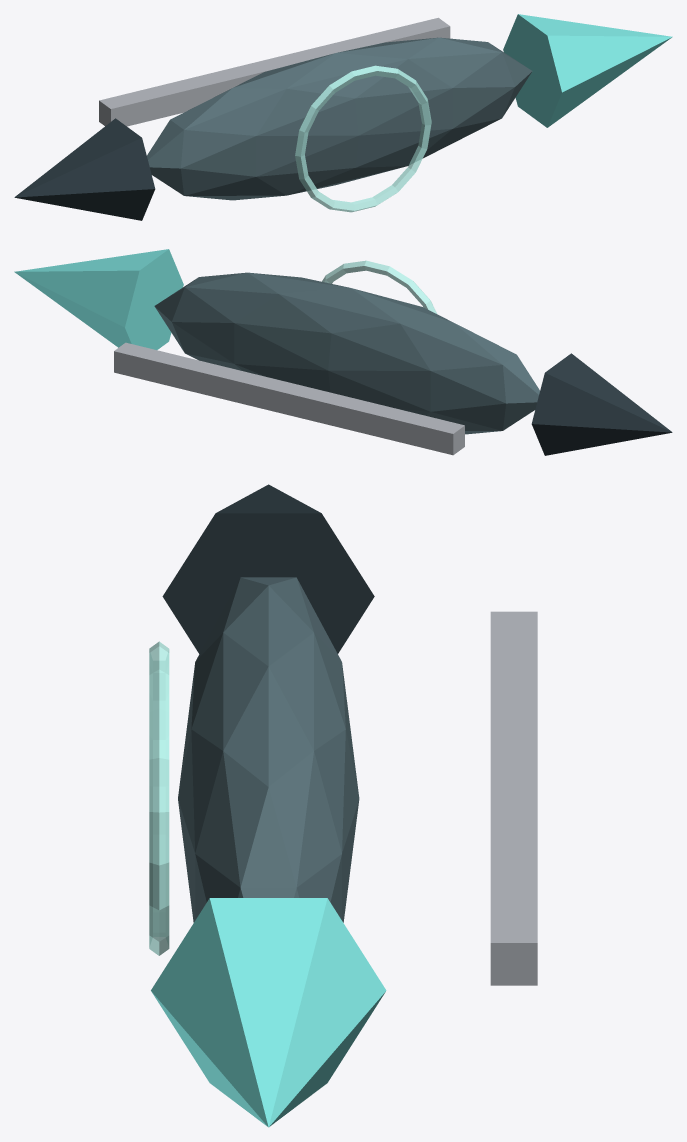
The model's file is 05_skyship_hull.glb.
3 renders of one model, top to bottom at view 1: azimuth 30°, elevation 25°; view 2: azimuth 150°, elevation 25°; view 3: azimuth 270°, elevation 25°, orthographic. The views are drawn at different scales.
Visible parts, largest first — view 1: hull_low_poly, bow_upgrade, stern_fin, keel_plate, size_class_ring; view 2: hull_low_poly, keel_plate, bow_upgrade, stern_fin, size_class_ring; view 3: hull_low_poly, bow_upgrade, keel_plate, stern_fin, size_class_ring.
Boxes of the visible parts, <box> form: hull_low_poly: <box>147,37,532,200</box>; bow_upgrade: <box>503,14,672,127</box>; stern_fin: <box>14,118,155,220</box>; keel_plate: <box>99,17,450,126</box>; size_class_ring: <box>295,65,431,212</box>; hull_low_poly: <box>154,272,539,434</box>; keel_plate: <box>114,342,464,455</box>; bow_upgrade: <box>14,249,183,349</box>; stern_fin: <box>531,353,672,455</box>; size_class_ring: <box>322,260,436,313</box>; hull_low_poly: <box>178,577,359,922</box>; bow_upgrade: <box>151,898,386,1127</box>; keel_plate: <box>490,611,537,985</box>; stern_fin: <box>162,484,374,653</box>; size_class_ring: <box>149,641,169,955</box>.
Size of the model in its own units: 1.86 by 0.3801 by 0.4747.
